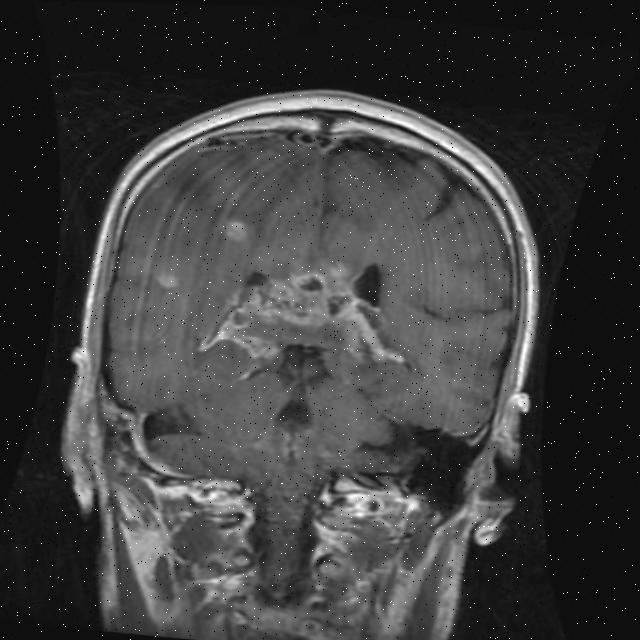Glioma: (195, 260, 416, 372)
